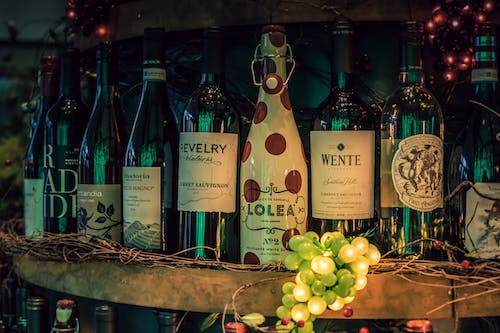alcohol: (239, 24, 307, 265), (379, 15, 445, 262), (307, 16, 377, 248), (174, 26, 241, 264), (121, 24, 180, 255), (446, 20, 500, 262), (76, 39, 125, 246), (42, 48, 93, 232), (22, 54, 62, 239)
